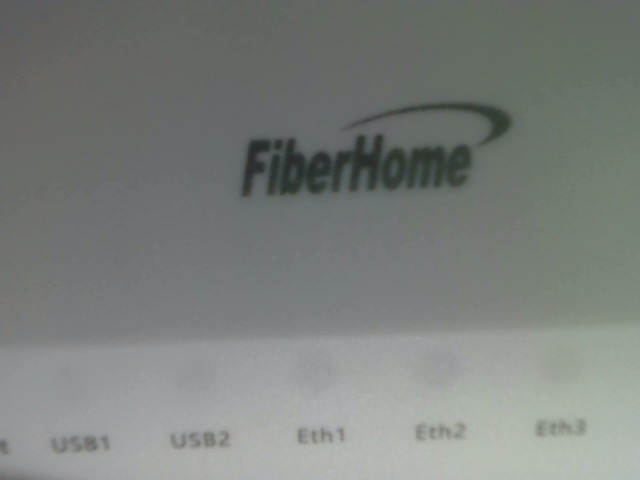AI_FiberHome: (225, 89, 527, 207)
